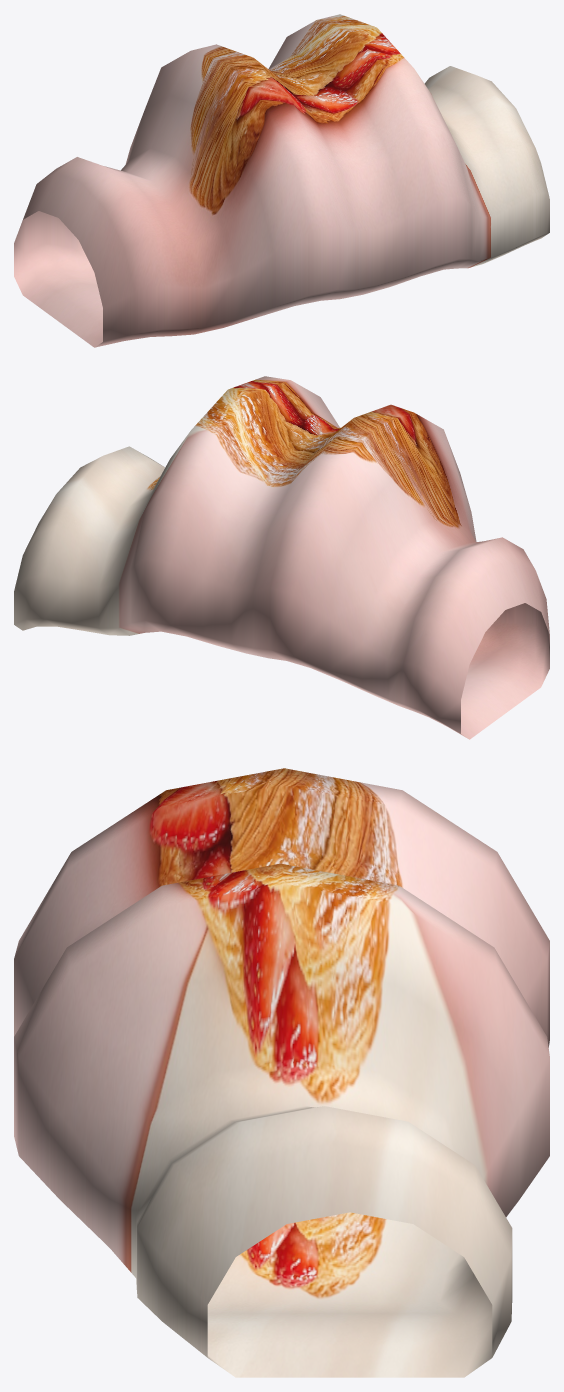
File: prop_croissant_berry.glb
The picture shows the model from 3 angles, top to bottom: view 1: azimuth 30°, elevation 25°; view 2: azimuth 150°, elevation 25°; view 3: azimuth 270°, elevation 25°; orthographic projection. The views are drawn at different scales.
Parts seen in each view (by area): view 1: prop_croissant_berry; view 2: prop_croissant_berry; view 3: prop_croissant_berry.
Boxes of the visible parts, x1,y1,x2,y2 form: prop_croissant_berry: [14, 14, 549, 347]; prop_croissant_berry: [14, 376, 549, 739]; prop_croissant_berry: [14, 768, 549, 1377].
Bounding box in the file's own units: 0.1298 × 0.0659 × 0.0844.
1 material, 1 textured.
